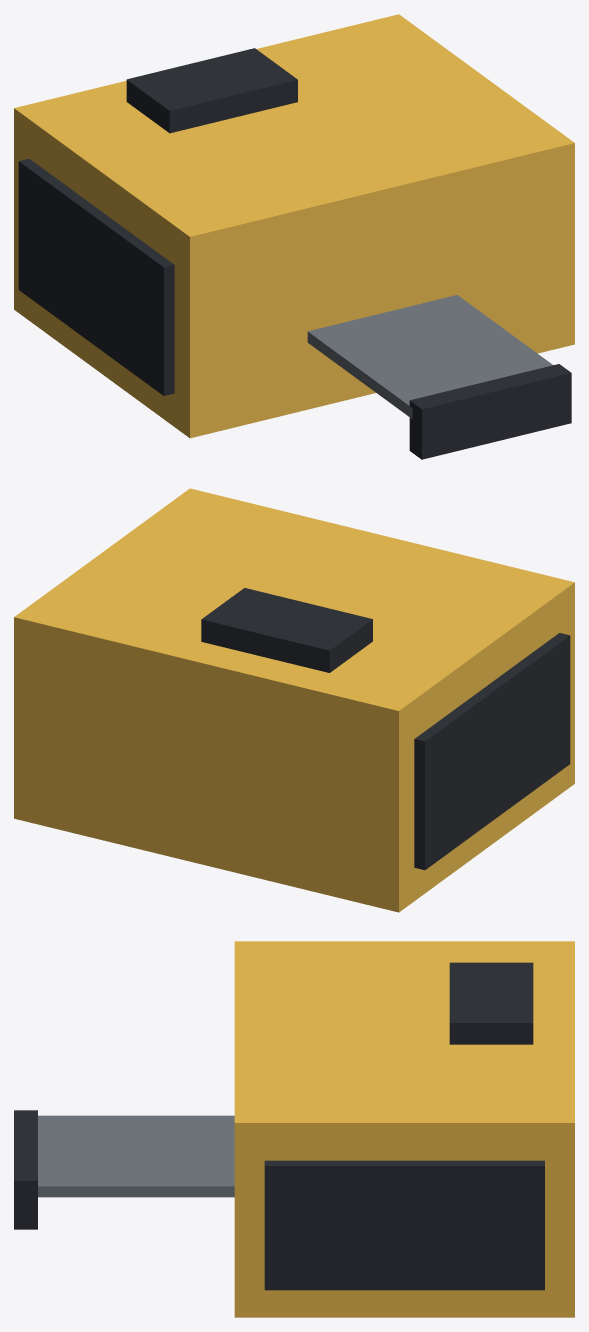
File: wire_tape.glb
3 views of the same model, one above another, from view 1: azimuth 30°, elevation 25°; view 2: azimuth 150°, elevation 25°; view 3: azimuth 270°, elevation 25° (orthographic). The views are drawn at different scales.
Visible parts, largest first — view 1: wire_tape_mesh; view 2: wire_tape_mesh; view 3: wire_tape_mesh.
Boxes of the visible parts, bbox=[...] form: wire_tape_mesh: bbox=[14, 14, 574, 459]; wire_tape_mesh: bbox=[14, 488, 574, 912]; wire_tape_mesh: bbox=[14, 941, 574, 1317].
Bounding box in the file's own units: 0.076 × 0.04 × 0.094.
Materials: 1 (1 with a texture image).
